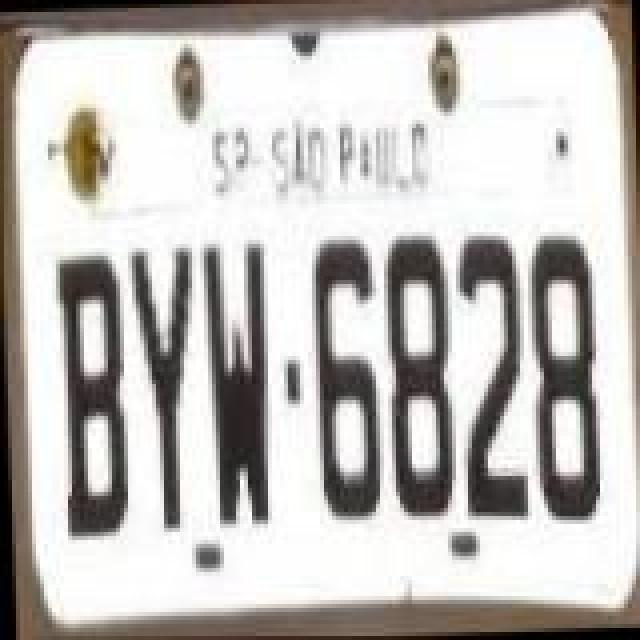2: (448, 226, 528, 526)
6: (306, 230, 382, 526)
8: (524, 230, 604, 530), (378, 224, 454, 524)
B: (54, 244, 130, 540)
W: (198, 232, 274, 532)
Y: (126, 240, 202, 540)
